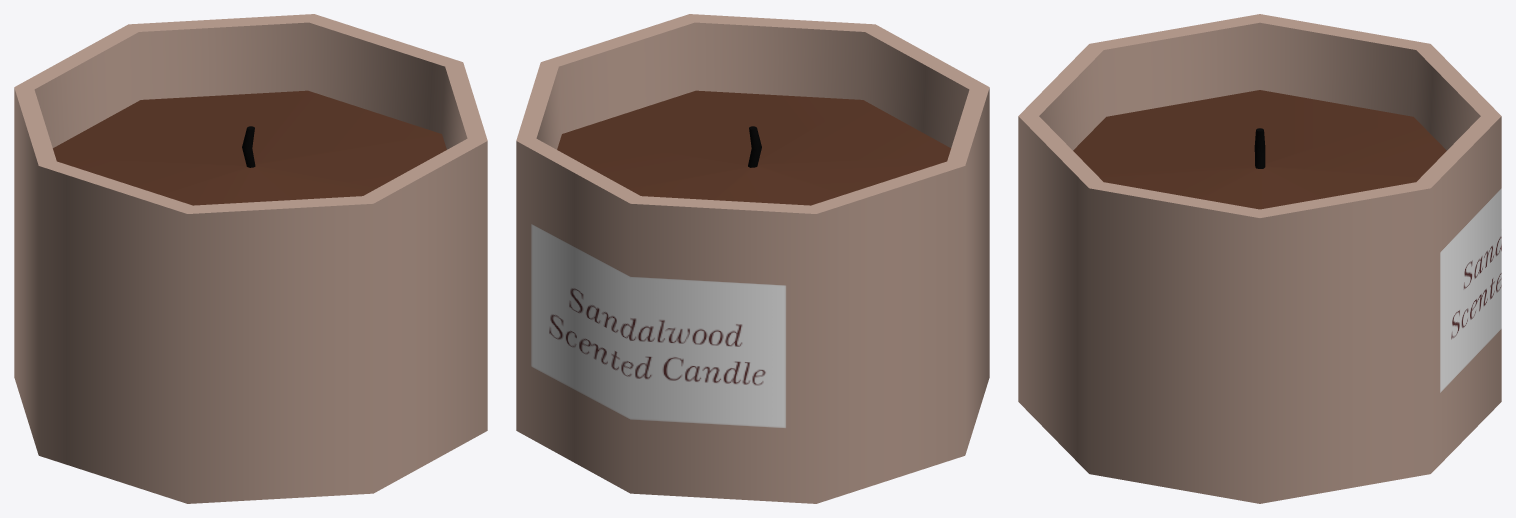
The model's file is furniture_decor_210016.glb.
3 views of the same model, side by side, from view 1: azimuth 30°, elevation 25°; view 2: azimuth 150°, elevation 25°; view 3: azimuth 270°, elevation 25° (orthographic).
Visible parts, largest first — view 1: furniture_decor_210016; view 2: furniture_decor_210016; view 3: furniture_decor_210016.
Boxes of the visible parts, box(x1,y1,x2,y2) form: furniture_decor_210016: box(14, 14, 487, 503); furniture_decor_210016: box(516, 14, 989, 503); furniture_decor_210016: box(1018, 14, 1501, 503).
Size of the model in its own units: 0.1295 by 0.0845 by 0.1295.
Materials: 1 (1 with a texture image).
